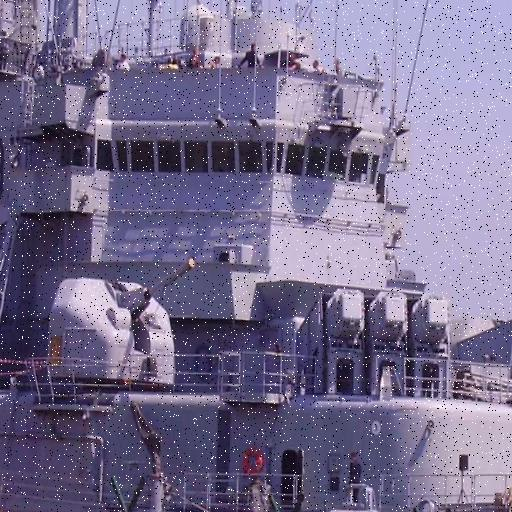Portanaves: (1, 1, 512, 507)
